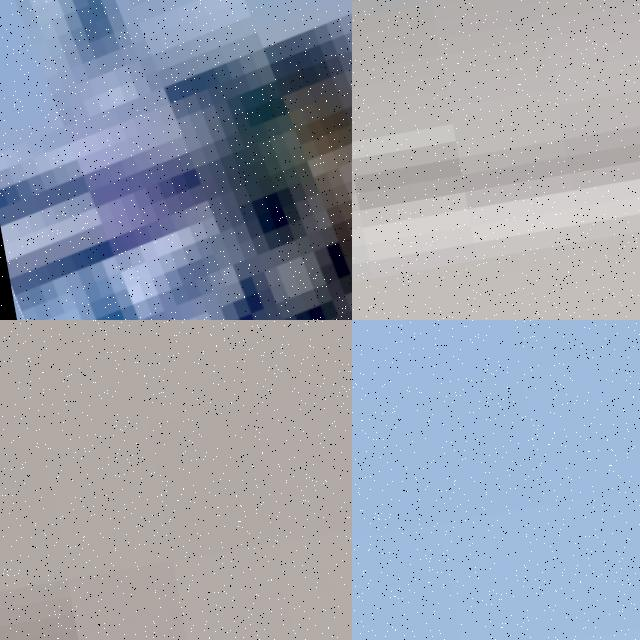drone: (0, 0, 352, 320)
